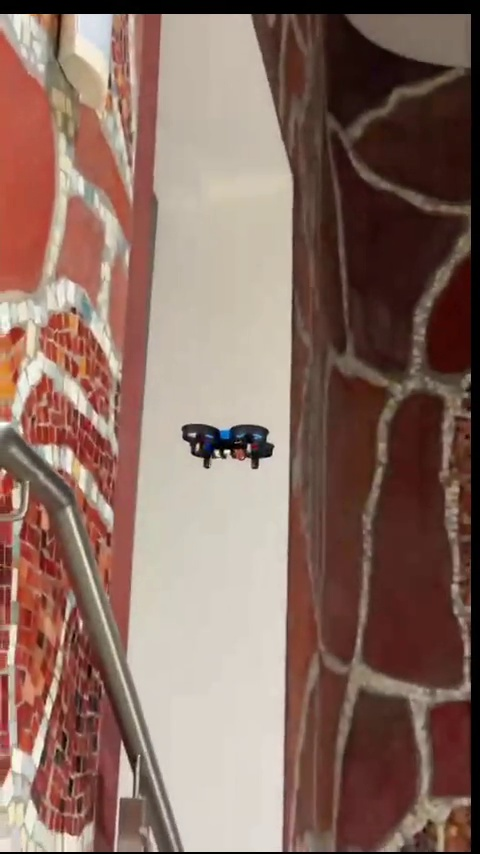drone: (180, 423, 277, 470)
